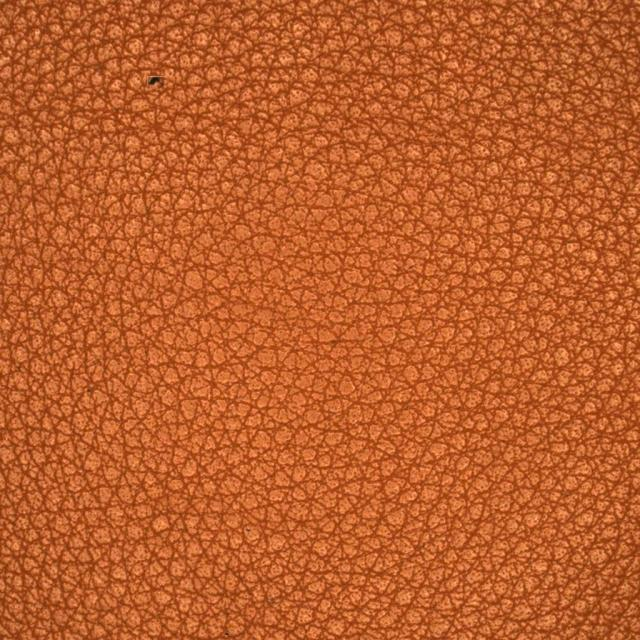Hole: (73, 27, 237, 140)
